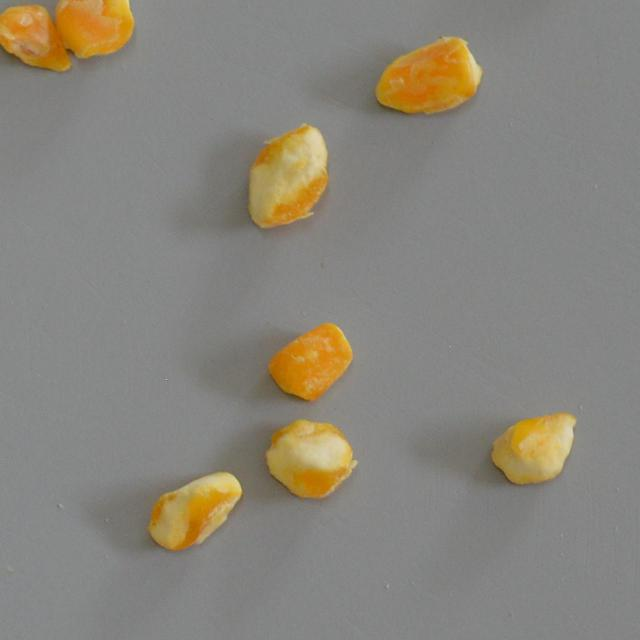pelicula: (244, 120, 327, 234), (372, 34, 482, 116), (262, 416, 356, 501), (146, 470, 242, 552), (266, 320, 353, 402), (490, 412, 575, 485), (52, 0, 136, 60), (0, 3, 72, 73)
